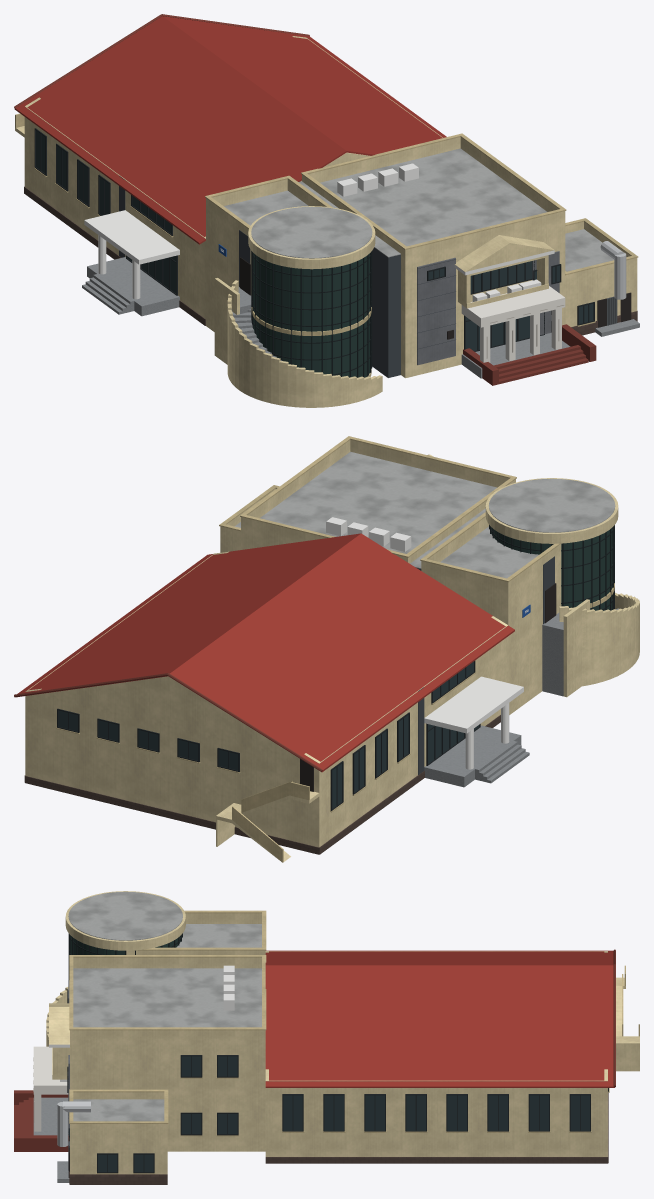
The model's file is NHA_AN.glb.
3 renders of one model, top to bottom at view 1: azimuth 30°, elevation 25°; view 2: azimuth 150°, elevation 25°; view 3: azimuth 270°, elevation 25°, orthographic. The views are drawn at different scales.
Visible parts, largest first — view 1: NHA_AN; view 2: NHA_AN; view 3: NHA_AN.
Boxes of the visible parts, <box> form: NHA_AN: <box>14,14,639,407</box>; NHA_AN: <box>14,436,639,862</box>; NHA_AN: <box>14,891,639,1184</box>.
Bounding box in the file's own units: 29.92 × 10.59 × 44.8.
Materials: 21 (6 with a texture image).
